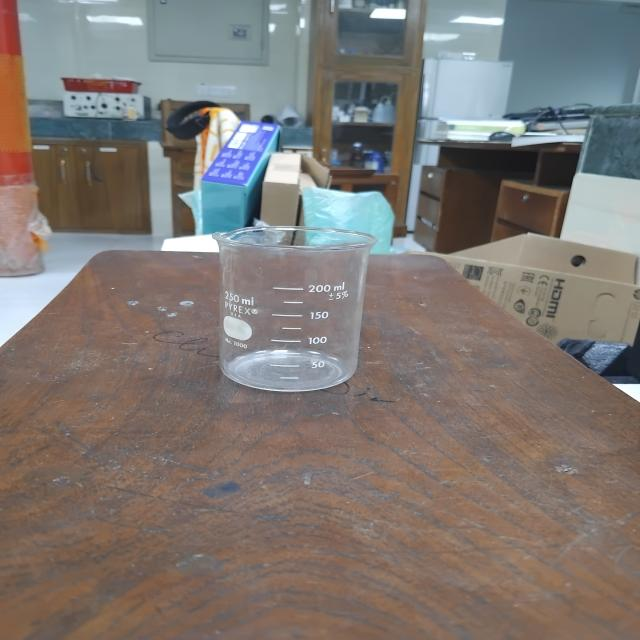Beaker: (184, 177, 402, 419)
